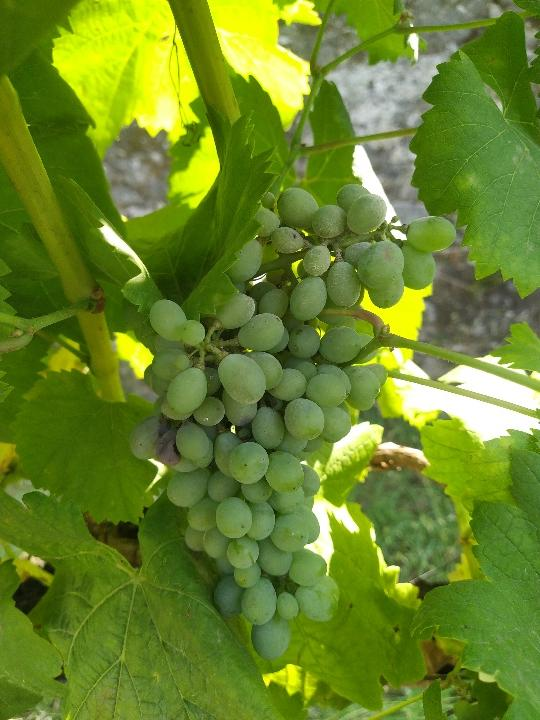grape: (119, 182, 461, 672)
